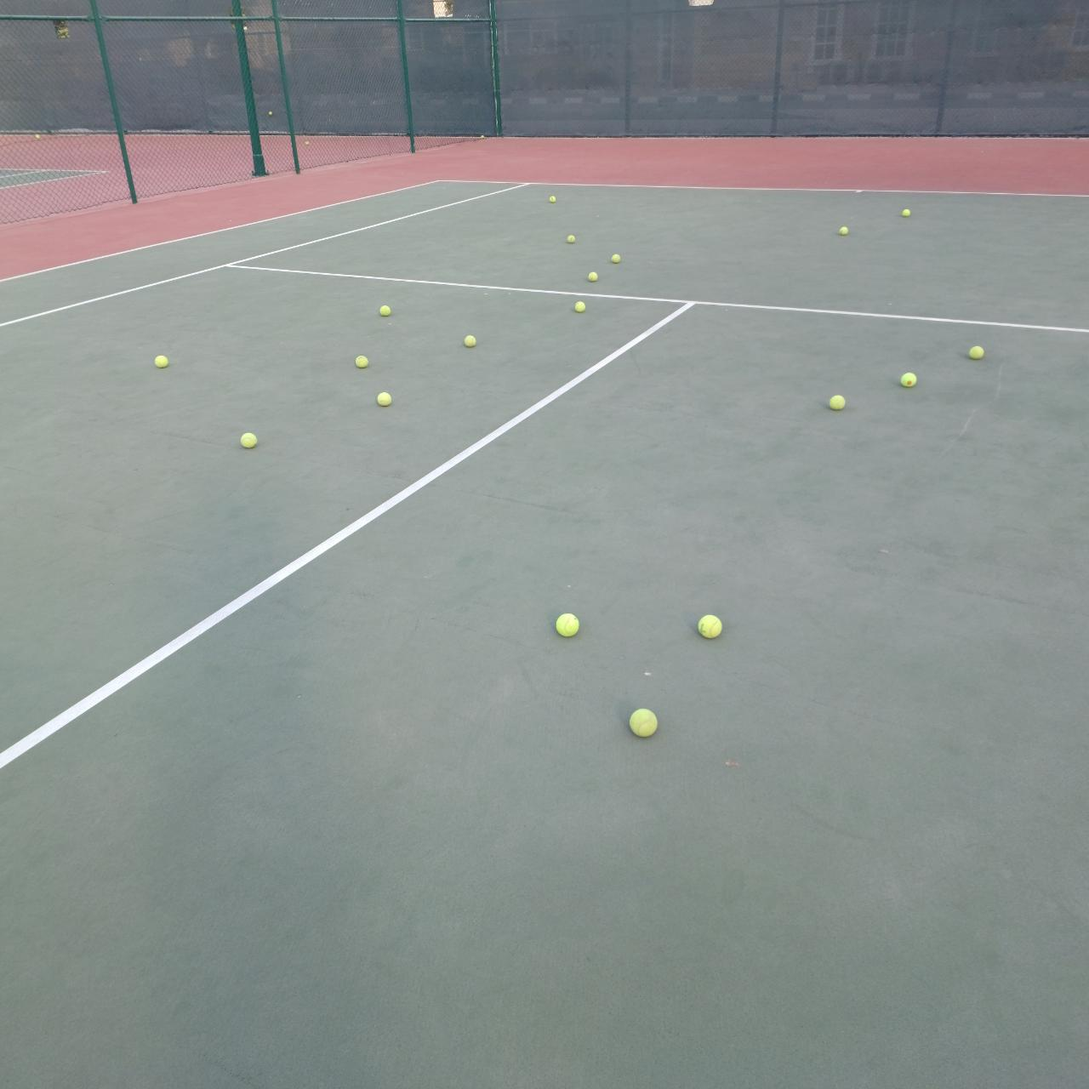tennis-ball: (627, 705, 659, 738), (696, 612, 722, 639), (554, 611, 579, 637), (238, 430, 257, 448), (827, 392, 845, 410), (898, 370, 916, 387), (967, 343, 984, 360), (152, 352, 168, 368), (376, 391, 391, 406), (355, 354, 368, 367), (464, 335, 476, 347), (379, 305, 391, 316), (575, 301, 585, 312), (588, 272, 598, 281), (611, 254, 620, 263), (567, 235, 575, 243), (840, 227, 848, 235), (902, 209, 910, 217), (549, 196, 556, 203)
